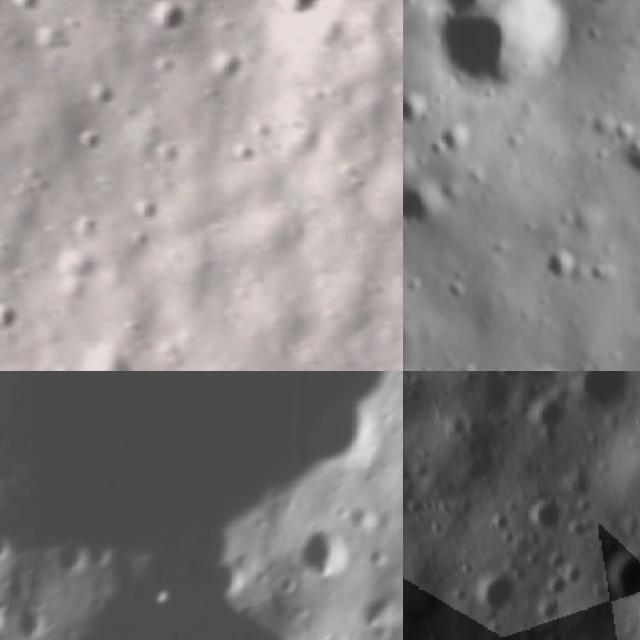crater: (0, 542, 393, 640), (422, 0, 575, 105), (585, 529, 640, 616), (460, 557, 526, 623), (558, 371, 640, 423), (514, 384, 572, 442), (403, 436, 430, 559), (513, 484, 570, 540), (298, 520, 354, 574), (403, 178, 440, 244), (254, 0, 328, 32), (80, 336, 140, 371), (543, 245, 583, 287), (147, 0, 190, 39), (354, 596, 389, 639), (436, 121, 476, 158), (52, 534, 88, 573), (17, 600, 52, 634), (403, 90, 431, 127), (0, 302, 27, 337), (348, 0, 397, 16), (0, 594, 14, 638), (7, 0, 44, 15), (403, 149, 414, 192)
